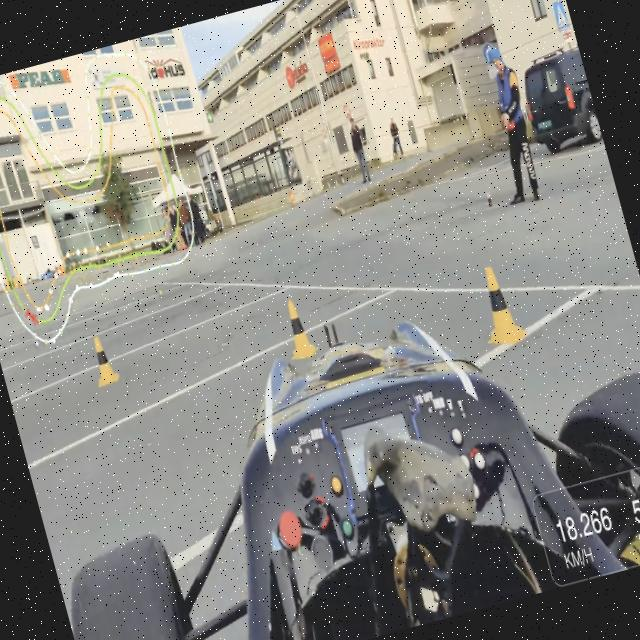yellow_cone: (473, 262, 526, 346), (280, 296, 316, 360), (86, 332, 120, 388)
